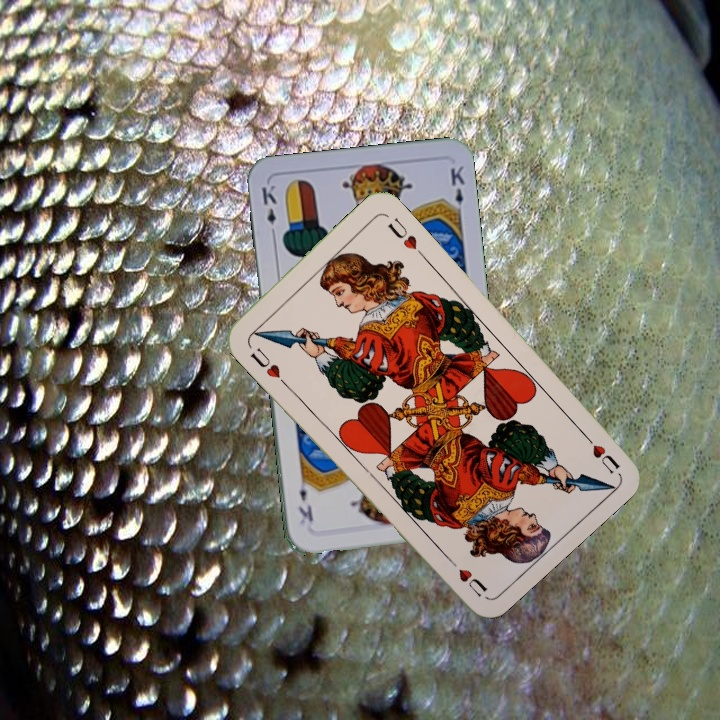EK: (257, 181, 279, 240)
HU: (577, 427, 622, 477), (245, 343, 288, 387)
